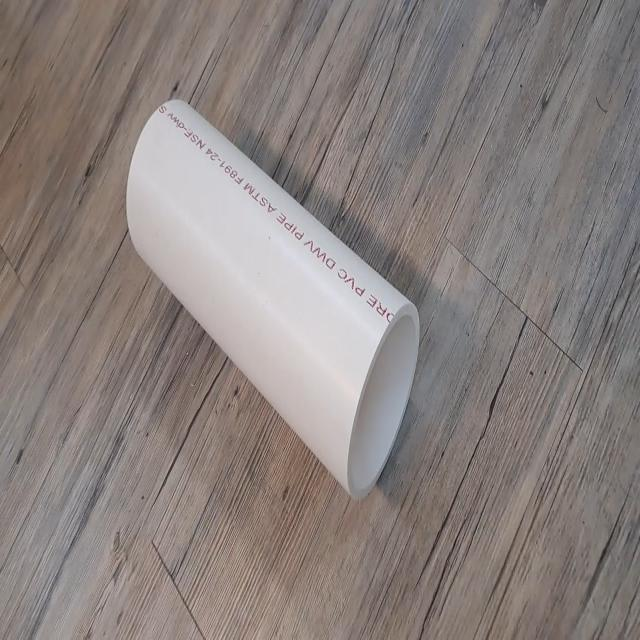CORAL: (119, 88, 424, 506)
